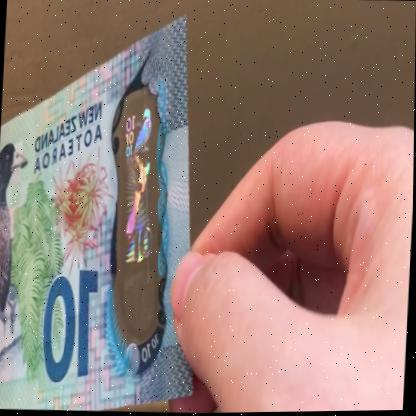10F: (116, 100, 160, 332)
